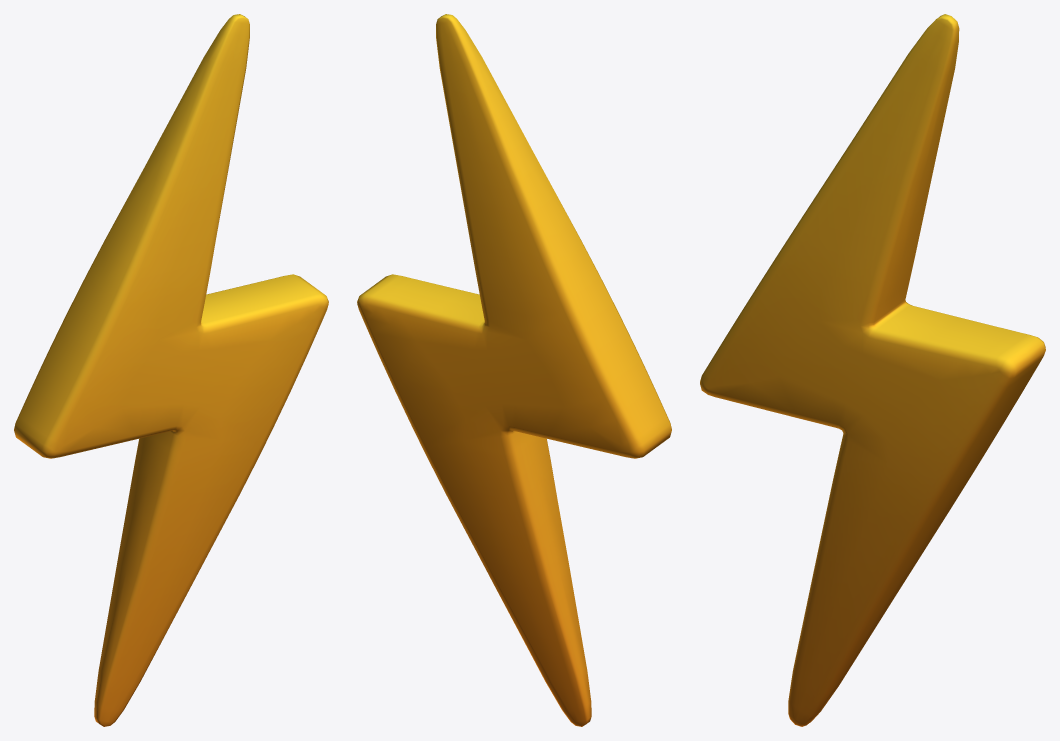
File: lightningBolt.glb
3 views of the same model, side by side, from view 1: azimuth 30°, elevation 25°; view 2: azimuth 150°, elevation 25°; view 3: azimuth 330°, elevation 25° (orthographic). The views are drawn at different scales.
Visible parts, largest first — view 1: LightningSymbol; view 2: LightningSymbol; view 3: LightningSymbol.
Part boxes in pixels (x1=…): LightningSymbol: x1=14, y1=14, x2=328, y2=726; LightningSymbol: x1=357, y1=14, x2=671, y2=726; LightningSymbol: x1=700, y1=14, x2=1045, y2=726.
Bounding box in the file's own units: 45.55 × 102 × 10.24.
1 material, 1 textured.
